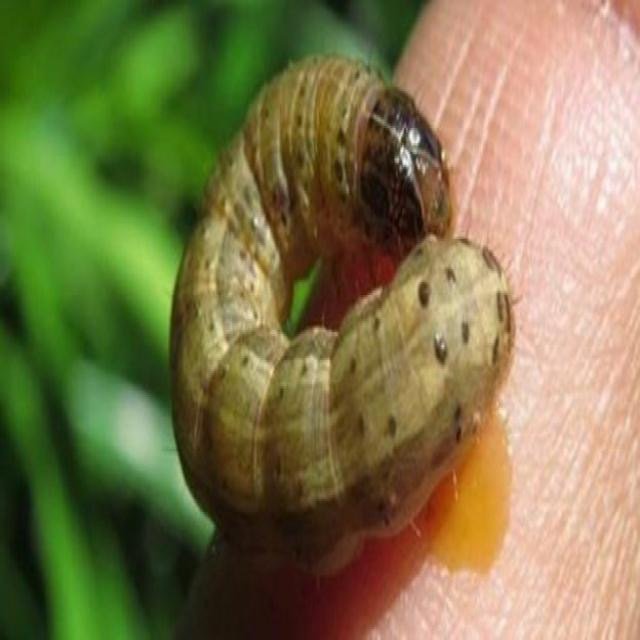armyworm: (163, 48, 518, 585)
